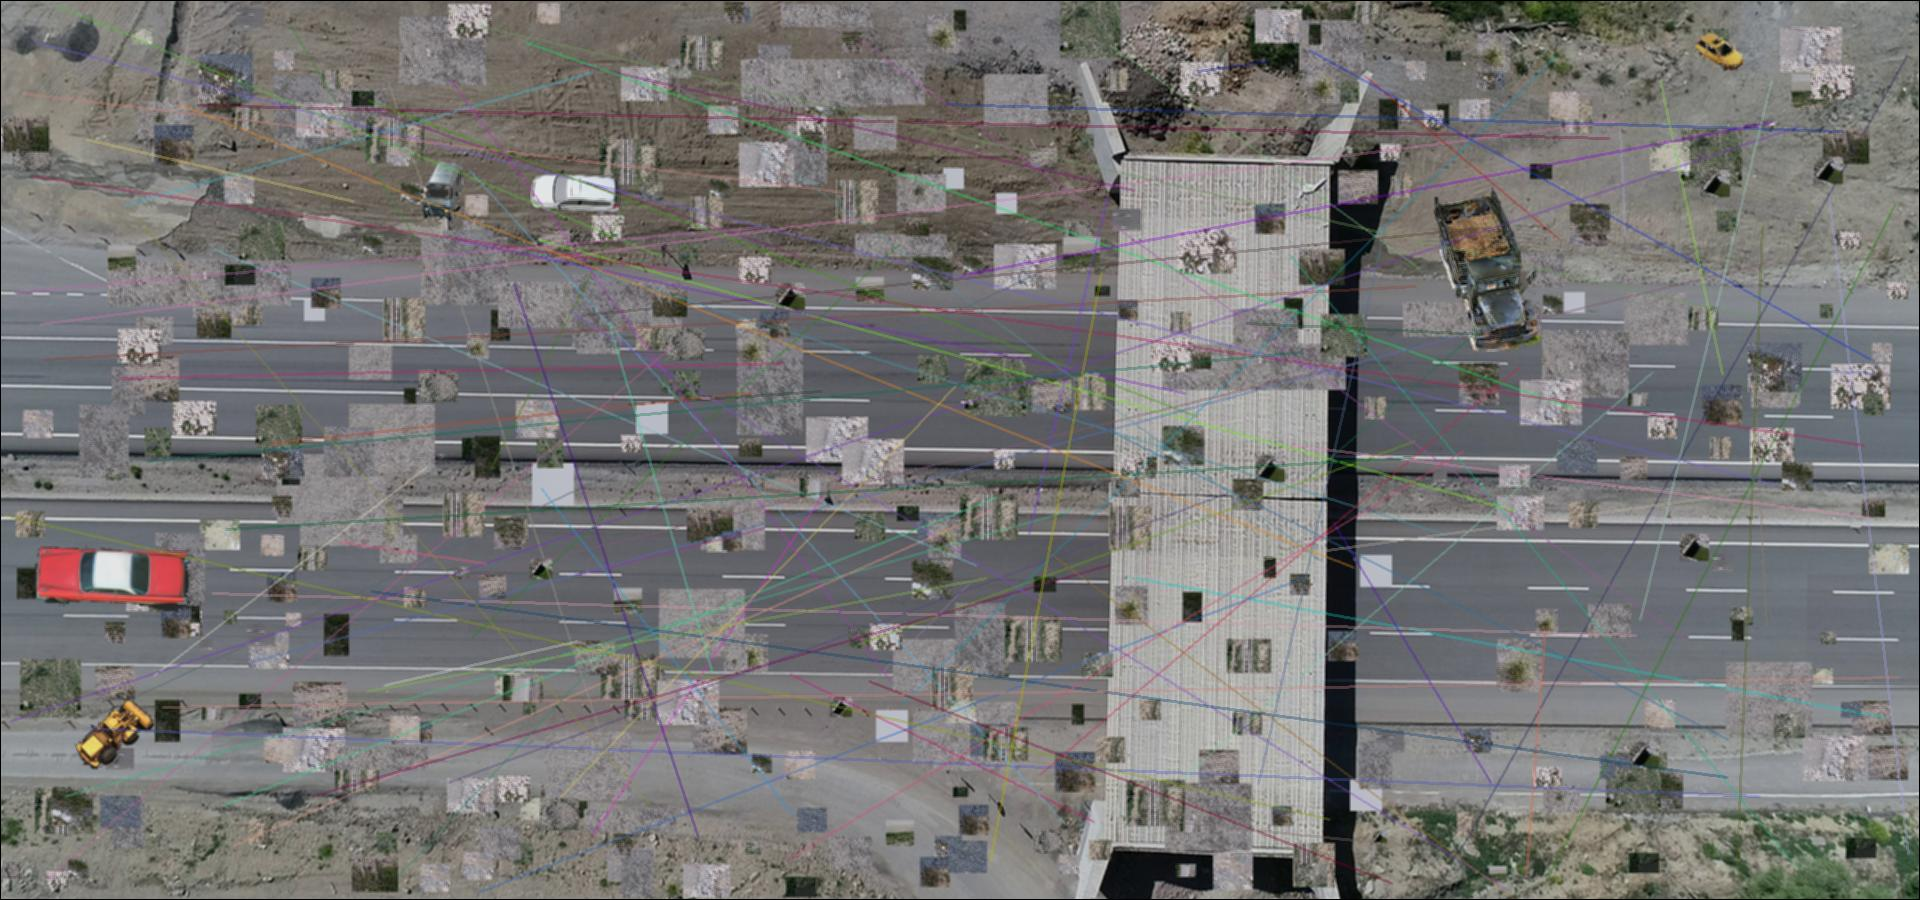arac: (1431, 186, 1543, 351), (36, 545, 195, 612), (75, 697, 160, 771), (529, 169, 622, 220), (420, 160, 463, 220), (1695, 32, 1744, 72)
